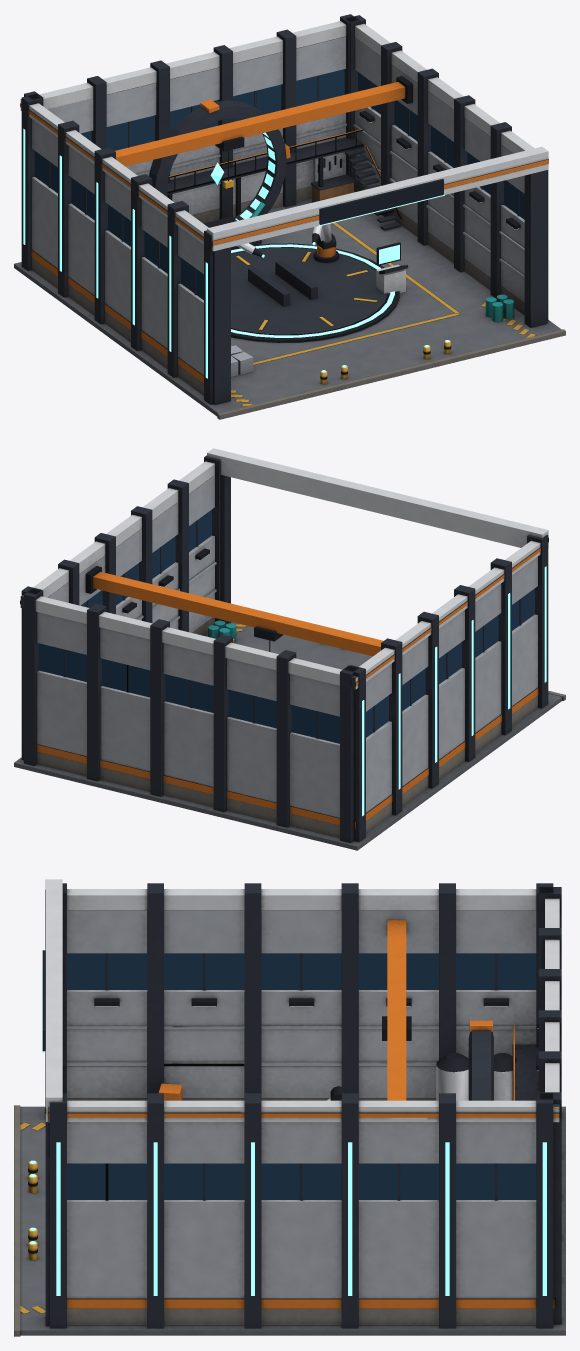
The model's file is Hangar.fbx.
3 renders of one model, top to bottom at view 1: azimuth 30°, elevation 25°; view 2: azimuth 150°, elevation 25°; view 3: azimuth 270°, elevation 25°, orthographic. The views are drawn at different scales.
Parts seen in each view (by area): view 1: Hangar, Hangar_Cristal, Hangar_Neon, Hangar_Cartel; view 2: Hangar, Hangar_Cristal, Hangar_Neon; view 3: Hangar, Hangar_Cristal, Hangar_Neon.
Part boxes in pixels (x1,y1,x2,y2): Hangar: (14,14,565,419); Hangar_Cristal: (34,69,524,299); Hangar_Neon: (23,122,518,378); Hangar_Cartel: (319,179,443,224); Hangar: (14,448,565,850); Hangar_Cristal: (38,509,534,743); Hangar_Neon: (123,559,546,816); Hangar: (14,879,565,1336); Hangar_Cristal: (67,953,536,1199); Hangar_Neon: (30,970,546,1295).
Size of the model in its own units: 14.11 by 6.89 by 14.62.
Materials: 5 (1 with a texture image).
